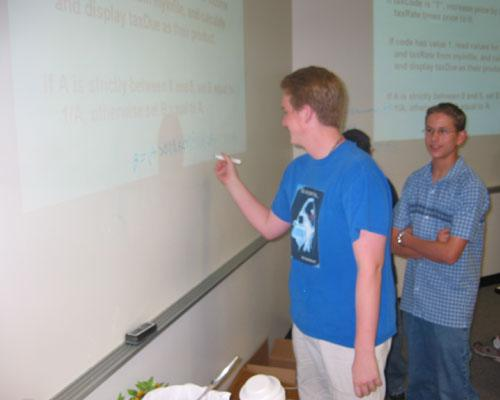person: (215, 67, 400, 400)
